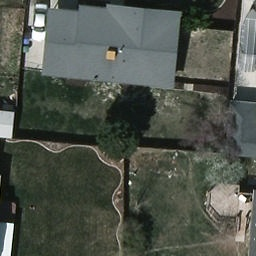car: (31, 5, 49, 42)
